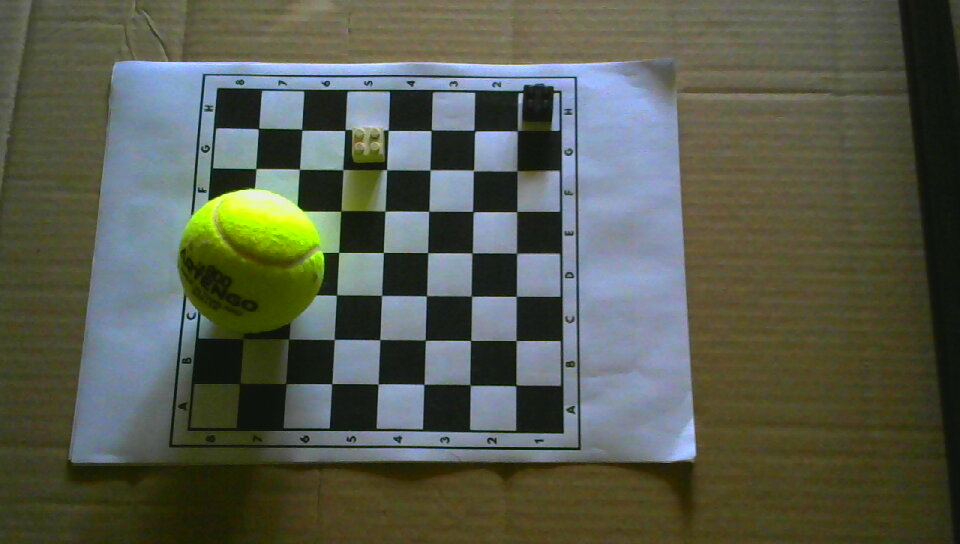bp: (520, 83, 555, 124)
wp: (350, 125, 386, 165)
